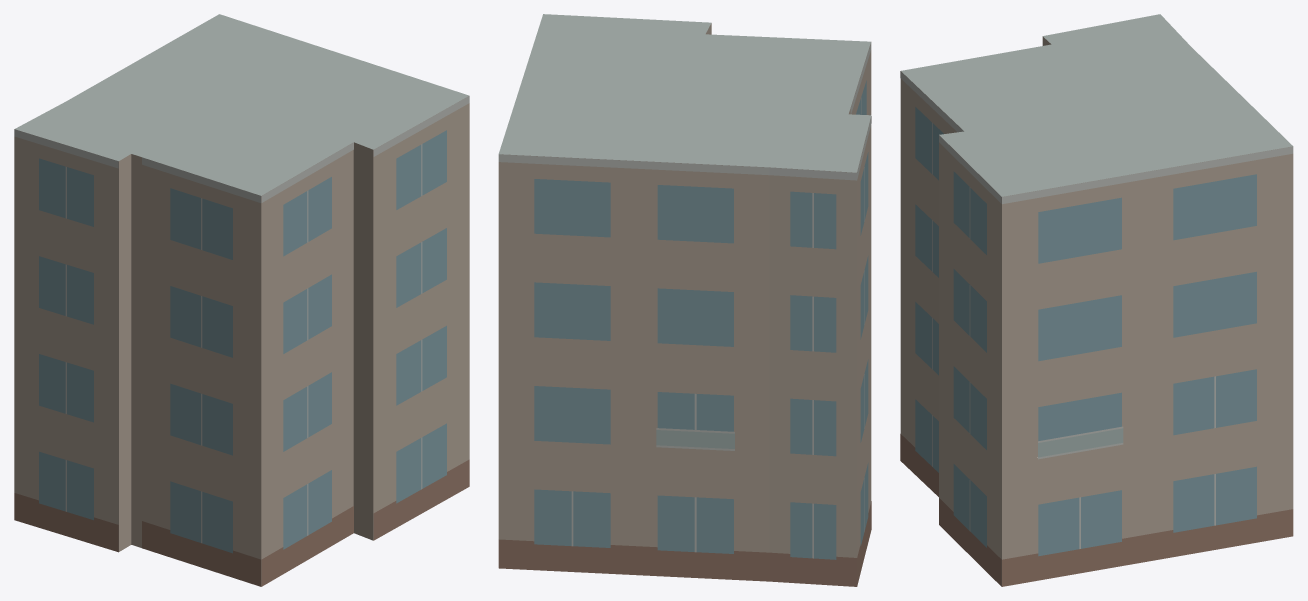
Rendered from survey-upis-32939505.glb.
3 views of the same model, side by side, from view 1: azimuth 30°, elevation 25°; view 2: azimuth 150°, elevation 25°; view 3: azimuth 270°, elevation 25° (orthographic). The views are drawn at different scales.
Parts seen in each view (by area): view 1: survey-upis-32939505.tmp; view 2: survey-upis-32939505.tmp; view 3: survey-upis-32939505.tmp.
Part boxes in pixels (x1,y1,x2,y2): survey-upis-32939505.tmp: (14,14,469,586); survey-upis-32939505.tmp: (498,14,871,586); survey-upis-32939505.tmp: (900,14,1293,586).
Size of the model in its own units: 12.98 by 12.9 by 11.78.
